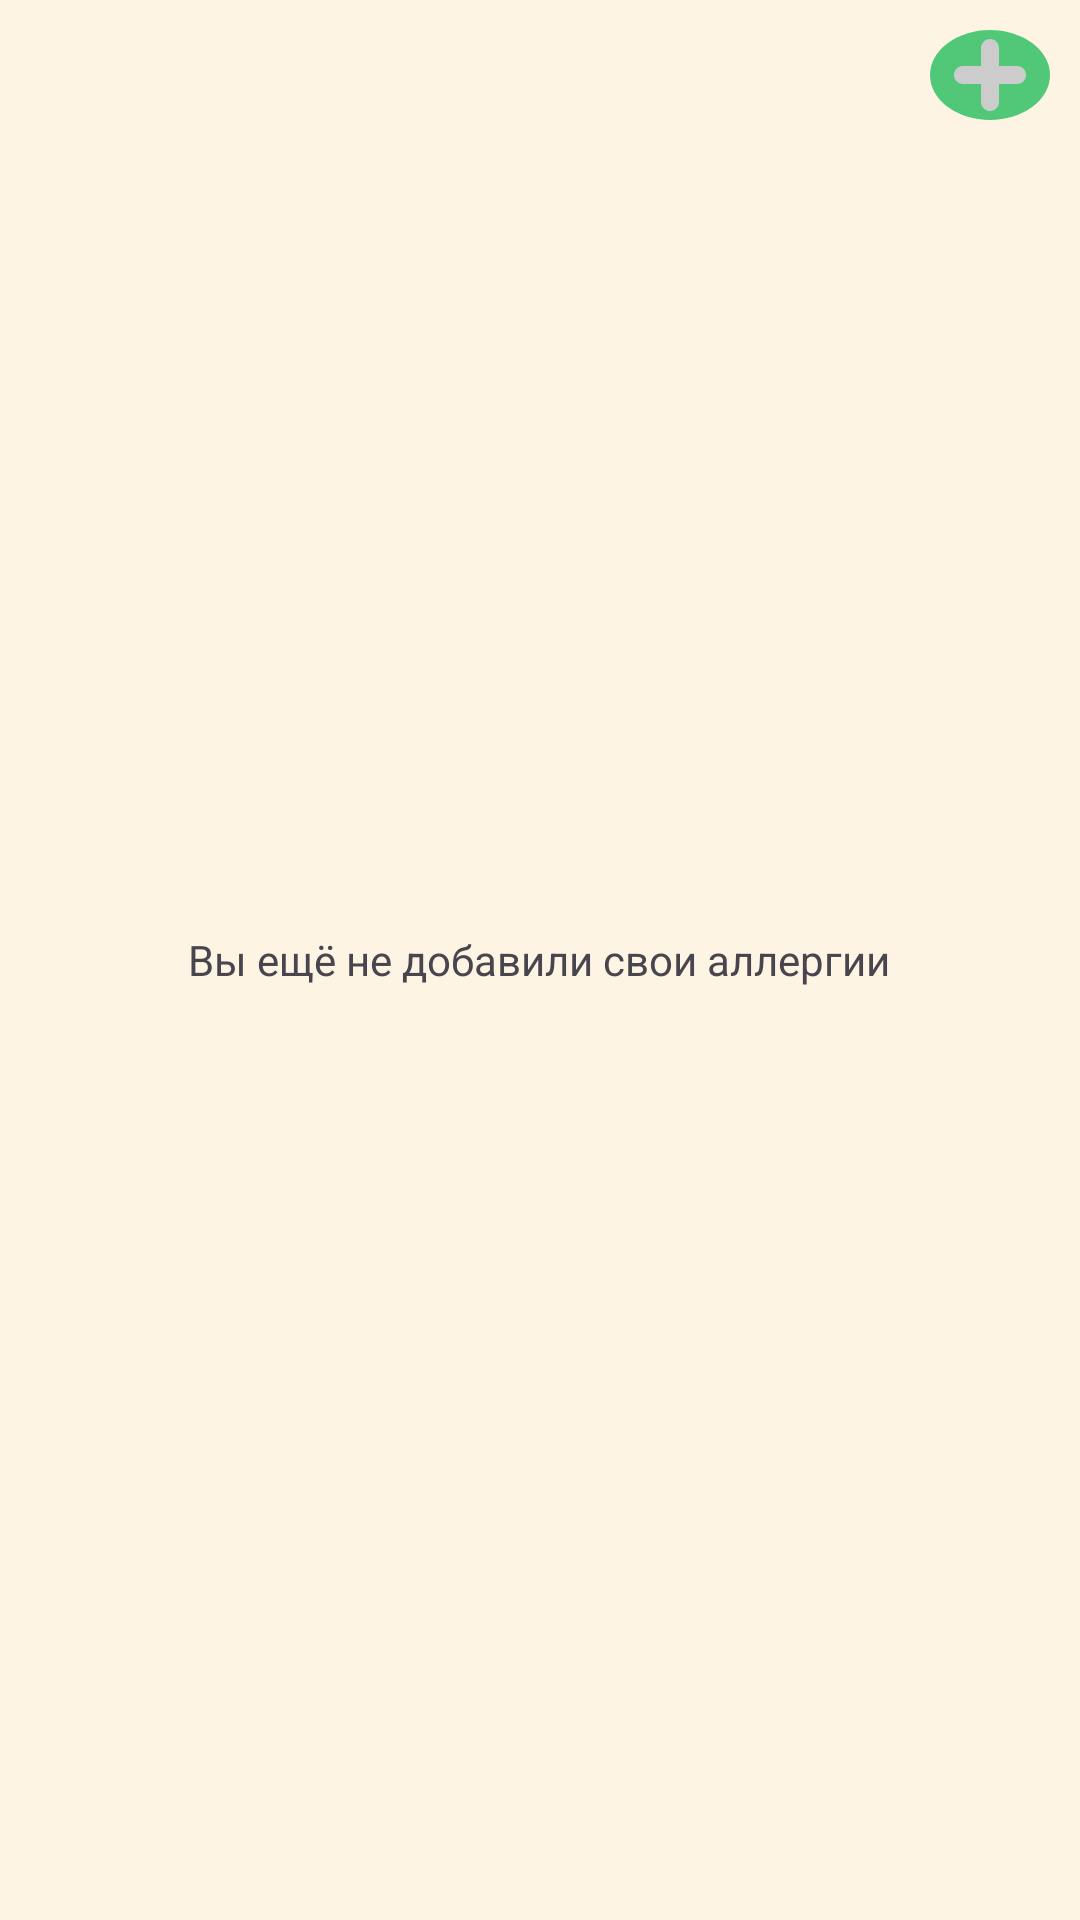

Icon click points for this 1080 x 1920 phone screenshot, format [x,y]:
plus: [990,75]
